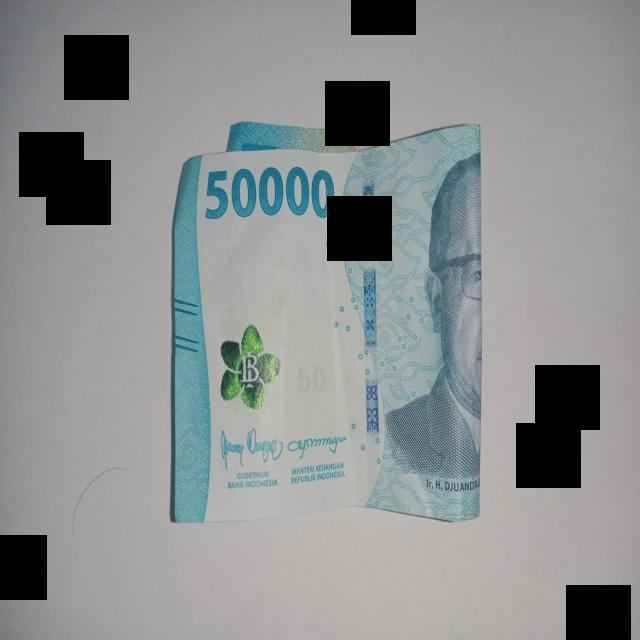lima puluh ribu rupiah: (172, 122, 482, 522)
